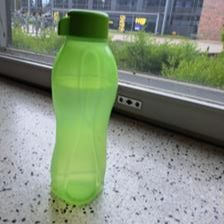bottle: (45, 7, 118, 205)
